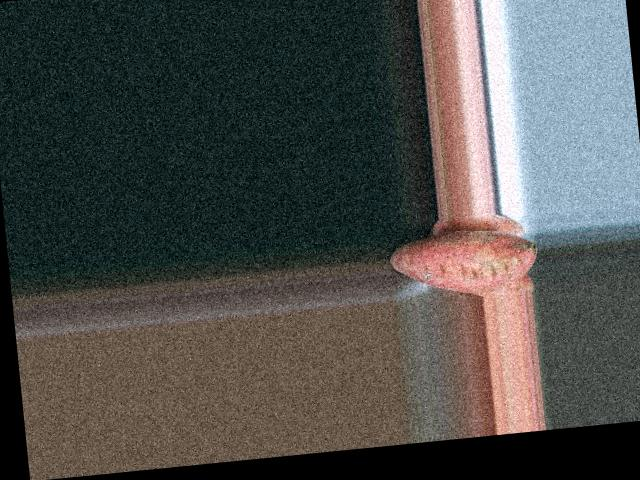sweet_potato: (389, 230, 540, 296)
